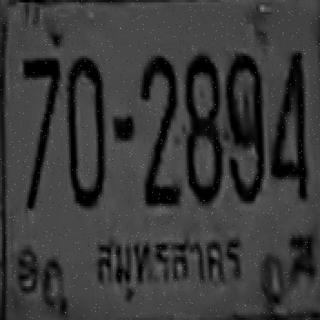N00: (66, 56, 105, 206)
N02: (140, 53, 176, 182), (142, 85, 178, 204)
N04: (269, 50, 307, 200)
N07: (22, 56, 60, 170), (22, 56, 58, 158), (22, 57, 58, 147)
N08: (184, 54, 222, 204)
P58: (88, 230, 248, 296)
